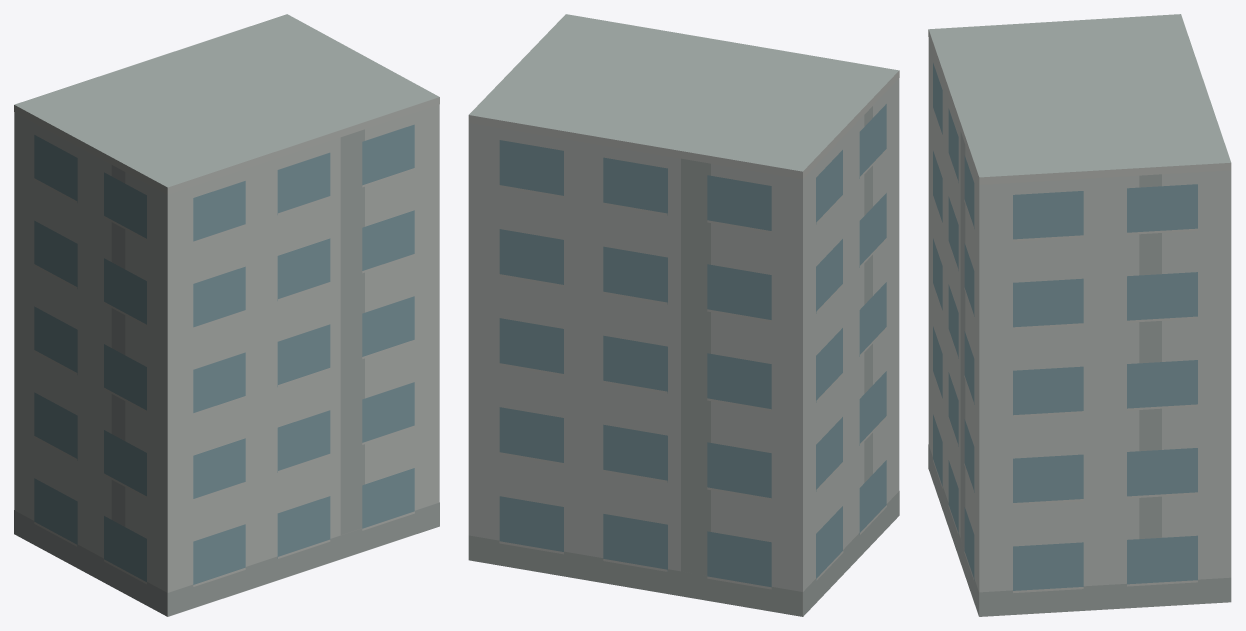
File: survey-upis-32697162.glb
3 renders of one model, left to right at view 1: azimuth 30°, elevation 25°; view 2: azimuth 150°, elevation 25°; view 3: azimuth 270°, elevation 25°, orthographic. The views are drawn at different scales.
Parts seen in each view (by area): view 1: survey-upis-32697162.tmp; view 2: survey-upis-32697162.tmp; view 3: survey-upis-32697162.tmp.
Part boxes in pixels (x1,y1,x2,y2): survey-upis-32697162.tmp: [14, 14, 439, 616]; survey-upis-32697162.tmp: [468, 14, 899, 616]; survey-upis-32697162.tmp: [928, 14, 1231, 616].
Bounding box in the file's own units: 11.33 × 14.2 × 8.88.
